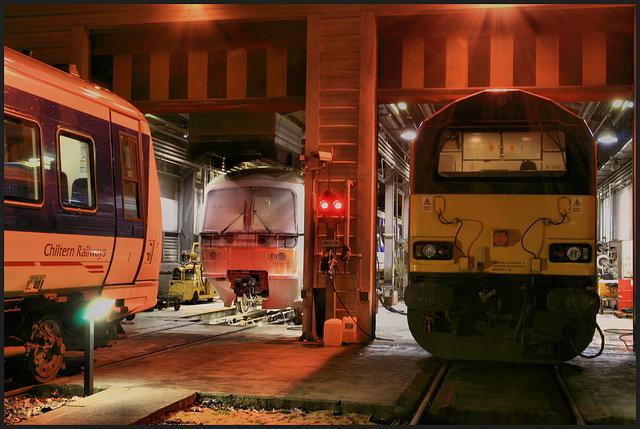Train: (2, 44, 166, 366), (405, 88, 601, 357), (201, 166, 308, 312)
